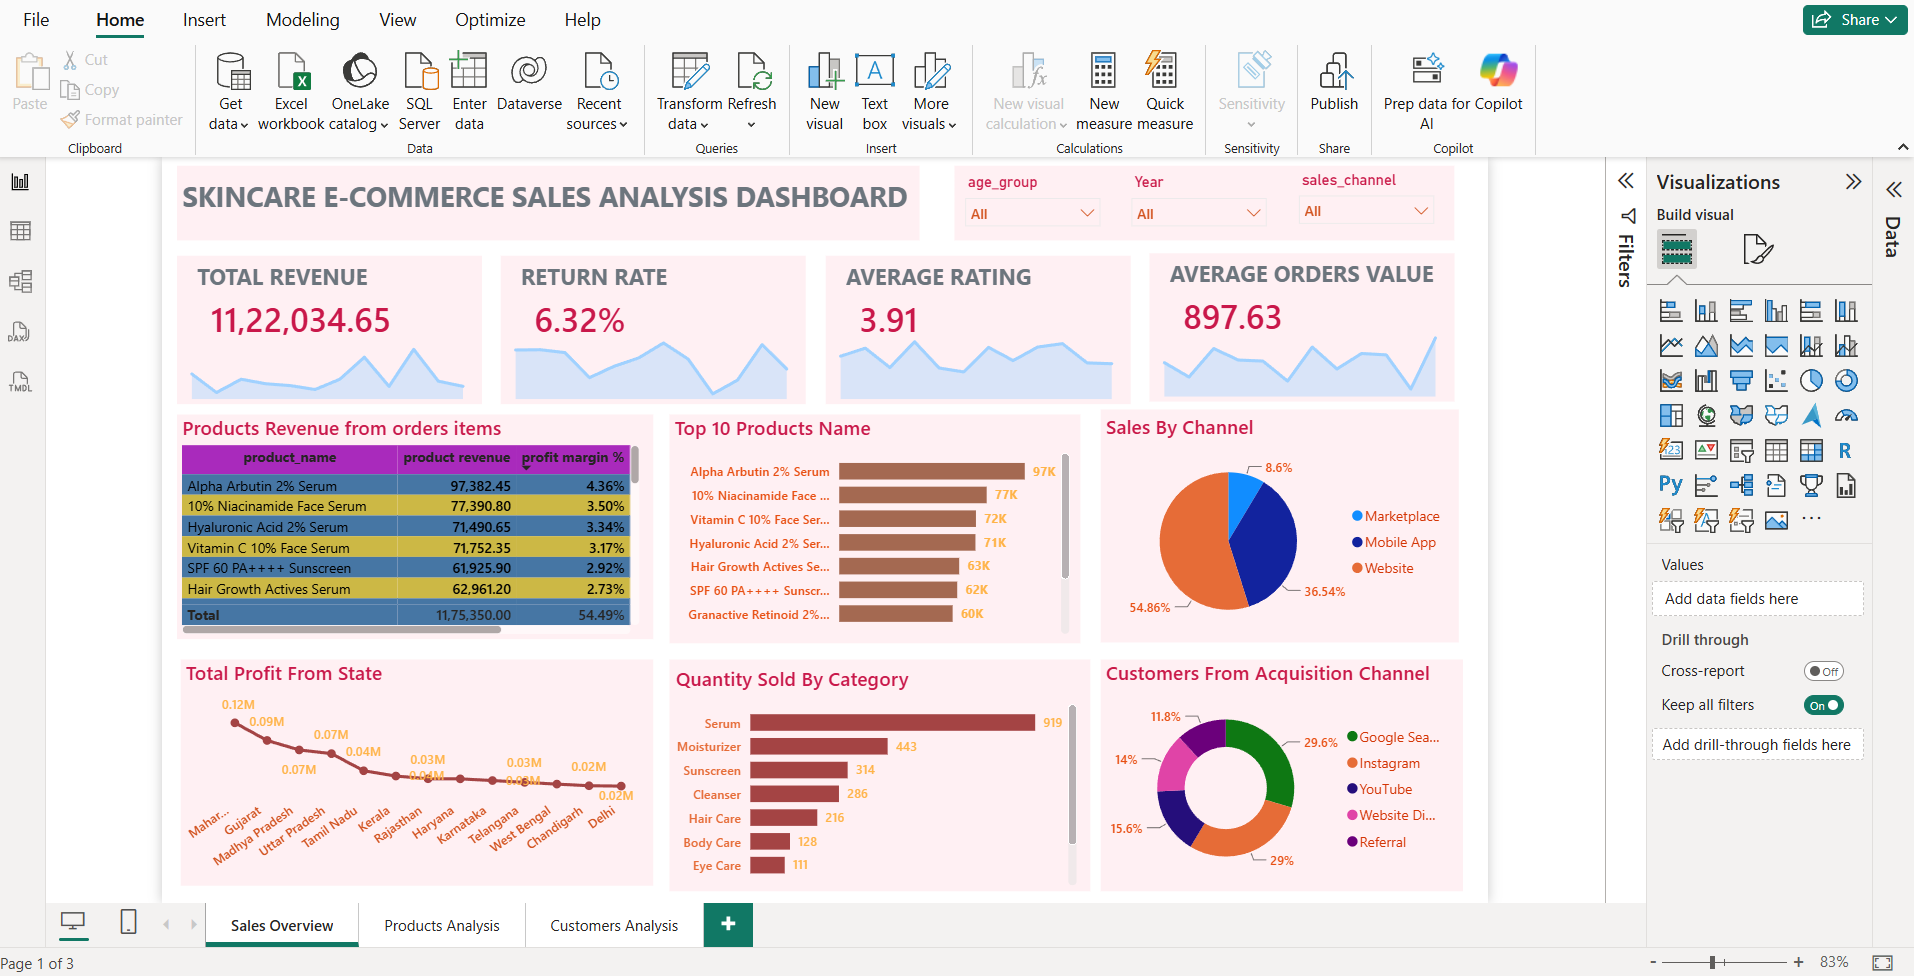

The dashboard page shown, as its layout file describes it:
{"tool":"powerbi","page":{"name":"Sales Overview","canvas":[1280,720],"ordinal":0},"visuals":[{"type":"shape","box":[14.5,95.3,294.4,143.6],"z":0},{"type":"cardVisual","fields":{"Data":["_new meaures.total revenue"]},"box":[18.1,120.6,260.6,68.8],"z":1000},{"type":"textbox","box":[29,95.3,249.7,47.1],"z":2000},{"type":"shape","box":[14.5,8.4,716.6,72.4],"z":3000},{"type":"textbox","box":[14.5,14.5,731.1,60.3],"z":4000},{"type":"areaChart","fields":{"Category":["calender.Month Name"],"Y":["_new meaures.total revenue"]},"box":[14.5,154.4,290.8,84.5],"z":5000},{"type":"shape","box":[326.6,95.7,294.4,143.6],"z":6000},{"type":"cardVisual","fields":{"Data":["_new meaures.return rate"]},"box":[330.2,121,260.6,68.8],"z":7000},{"type":"textbox","box":[341,95.7,249.7,47.1],"z":8000},{"type":"areaChart","fields":{"Category":["calender.Month Name"],"Y":["_new meaures.return rate"]},"box":[326.6,154.8,290.8,84.5],"z":9000},{"type":"shape","box":[641.2,95.7,294.4,143.6],"z":10000},{"type":"cardVisual","fields":{"Data":["_new meaures.avg rating"]},"box":[644.8,121,260.6,68.8],"z":11000},{"type":"textbox","box":[655.7,95.7,249.7,47.1],"z":12000},{"type":"areaChart","fields":{"Category":["calender.Month Name"],"Y":["_new meaures.avg rating"]},"box":[641.2,154.8,290.8,84.5],"z":13000},{"type":"shape","box":[953,92.8,294.4,143.6],"z":14000},{"type":"cardVisual","fields":{"Data":["_new meaures.avg order value"]},"box":[956.6,118.1,260.6,68.8],"z":15000},{"type":"textbox","box":[967.6,92.9,279.9,47.1],"z":16000},{"type":"areaChart","fields":{"Category":["calender.Month Name"],"Y":["_new meaures.avg order value"]},"box":[953,151.9,290.8,84.5],"z":17000},{"type":"shape","box":[905.7,244.3,345.8,225],"z":18000},{"type":"pieChart","title":"Sales By Channel","fields":{"Y":["_new meaures.total revenue"],"Series":["orders.sales_channel"]},"box":[905.7,247,341.7,222.3],"z":19000},{"type":"shape","box":[905.7,484.4,349.9,223.7],"z":20000},{"type":"donutChart","title":"Customers From Acquisition Channel","fields":{"Y":["_new meaures.total customers"],"Category":["customers.acquisition_channel"]},"box":[905.7,484.4,341.7,223.7],"z":21000},{"type":"shape","box":[489.9,248.4,396.6,220.9],"z":22000},{"type":"clusteredBarChart","title":"Top 10 Products Name","fields":{"Category":["products.product_name"],"Y":["_new meaures.product revenue"]},"box":[489.9,248.4,391.1,216.8],"z":23000},{"type":"shape","box":[489.9,484.4,406.2,223.7],"z":24000},{"type":"clusteredBarChart","title":"Quantity Sold By Category","fields":{"Category":["products.category"],"Y":["_new meaures.total quantity"]},"box":[491,491,396.9,217.2],"z":25000},{"type":"shape","box":[14.5,248.5,459.7,217.2],"z":26000},{"type":"pivotTable","title":"Products Revenue from orders items","fields":{"Rows":["products.product_name"],"Values":["_new meaures.product revenue","_new meaures.profit margin %","_new meaures.total orders items"]},"box":[14.5,248.5,451.2,217.2],"z":27000},{"type":"shape","box":[18.1,485,456,218.4],"z":28000},{"type":"lineChart","title":"Total Profit From State","fields":{"Category":["customers.state"],"Y":["_new meaures.total profit"]},"box":[18.1,485,442.8,220.8],"z":29000},{"type":"shape","box":[764.9,8.4,482.6,72.4],"z":30000},{"type":"slicer","fields":{"Values":["customers.age_group"]},"box":[764.9,10.9,150.8,67.6],"z":31000},{"type":"slicer","fields":{"Values":["calender.Year"]},"box":[925.3,10.9,150.8,67.6],"z":32000},{"type":"slicer","fields":{"Values":["orders.sales_channel"]},"box":[1087,8.4,150.8,67.6],"z":33000}]}

Visuals, with their boxes on the page's 1280x720 design canvas (x1, y1, x2, y2). These are canvas units, not pixel positions in the 1914x976 screenshot, which may show the page scaled, cropped or inside an application window:
shape: l=14, t=95, r=309, b=239
cardVisual - _new meaures.total revenue: l=18, t=121, r=279, b=189
textbox: l=29, t=95, r=279, b=142
shape: l=14, t=8, r=731, b=81
textbox: l=14, t=14, r=746, b=75
areaChart - calender.Month Name x _new meaures.total revenue: l=14, t=154, r=305, b=239
shape: l=327, t=96, r=621, b=239
cardVisual - _new meaures.return rate: l=330, t=121, r=591, b=190
textbox: l=341, t=96, r=591, b=143
areaChart - calender.Month Name x _new meaures.return rate: l=327, t=155, r=617, b=239
shape: l=641, t=96, r=936, b=239
cardVisual - _new meaures.avg rating: l=645, t=121, r=905, b=190
textbox: l=656, t=96, r=905, b=143
areaChart - calender.Month Name x _new meaures.avg rating: l=641, t=155, r=932, b=239
shape: l=953, t=93, r=1247, b=236
cardVisual - _new meaures.avg order value: l=957, t=118, r=1217, b=187
textbox: l=968, t=93, r=1248, b=140
areaChart - calender.Month Name x _new meaures.avg order value: l=953, t=152, r=1244, b=236
shape: l=906, t=244, r=1252, b=469
"Sales By Channel" pieChart: l=906, t=247, r=1247, b=469
shape: l=906, t=484, r=1256, b=708
"Customers From Acquisition Channel" donutChart: l=906, t=484, r=1247, b=708
shape: l=490, t=248, r=886, b=469
"Top 10 Products Name" clusteredBarChart: l=490, t=248, r=881, b=465
shape: l=490, t=484, r=896, b=708
"Quantity Sold By Category" clusteredBarChart: l=491, t=491, r=888, b=708
shape: l=14, t=248, r=474, b=466
"Products Revenue from orders items" pivotTable: l=14, t=248, r=466, b=466
shape: l=18, t=485, r=474, b=703
"Total Profit From State" lineChart: l=18, t=485, r=461, b=706
shape: l=765, t=8, r=1248, b=81
slicer - customers.age_group: l=765, t=11, r=916, b=78
slicer - calender.Year: l=925, t=11, r=1076, b=78
slicer - orders.sales_channel: l=1087, t=8, r=1238, b=76
